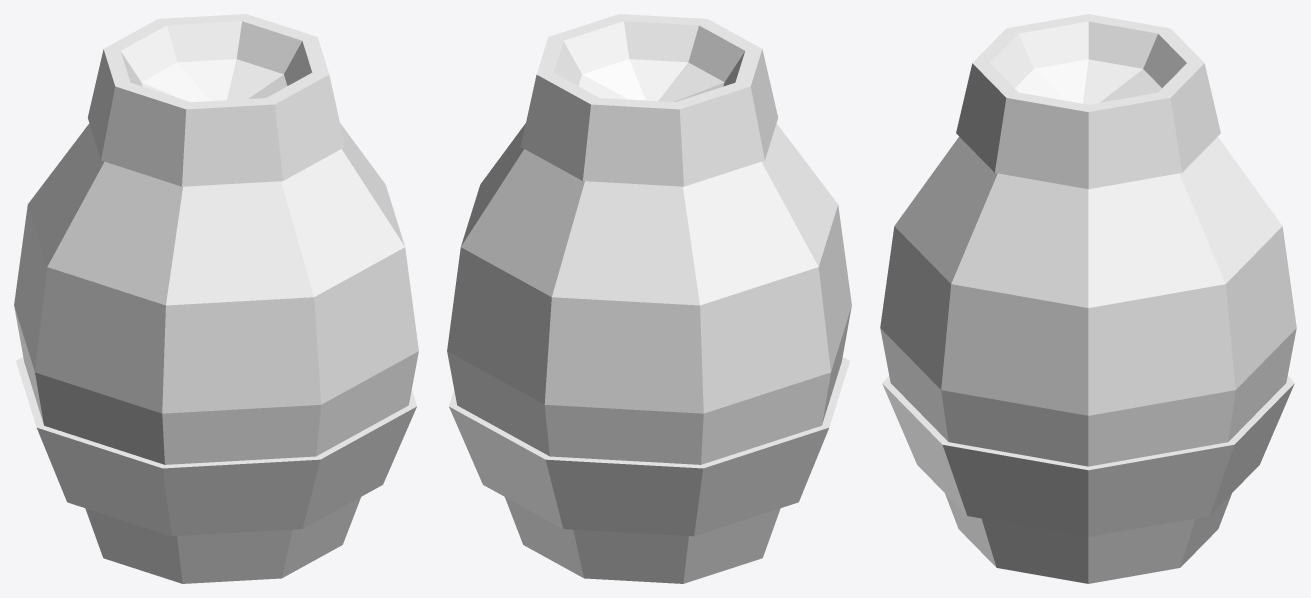
The model's file is Desertjar3.glb.
3 renders of one model, left to right at view 1: azimuth 30°, elevation 25°; view 2: azimuth 150°, elevation 25°; view 3: azimuth 270°, elevation 25°, orthographic.
Parts seen in each view (by area): view 1: DesertJar03; view 2: DesertJar03; view 3: DesertJar03.
Boxes of the visible parts, x1,y1,x2,y2 form: DesertJar03: [14, 14, 418, 583]; DesertJar03: [447, 14, 851, 583]; DesertJar03: [880, 14, 1296, 583].
Size of the model in its own units: 0.9309 by 1.15 by 0.9309.
1 material, 1 textured.
